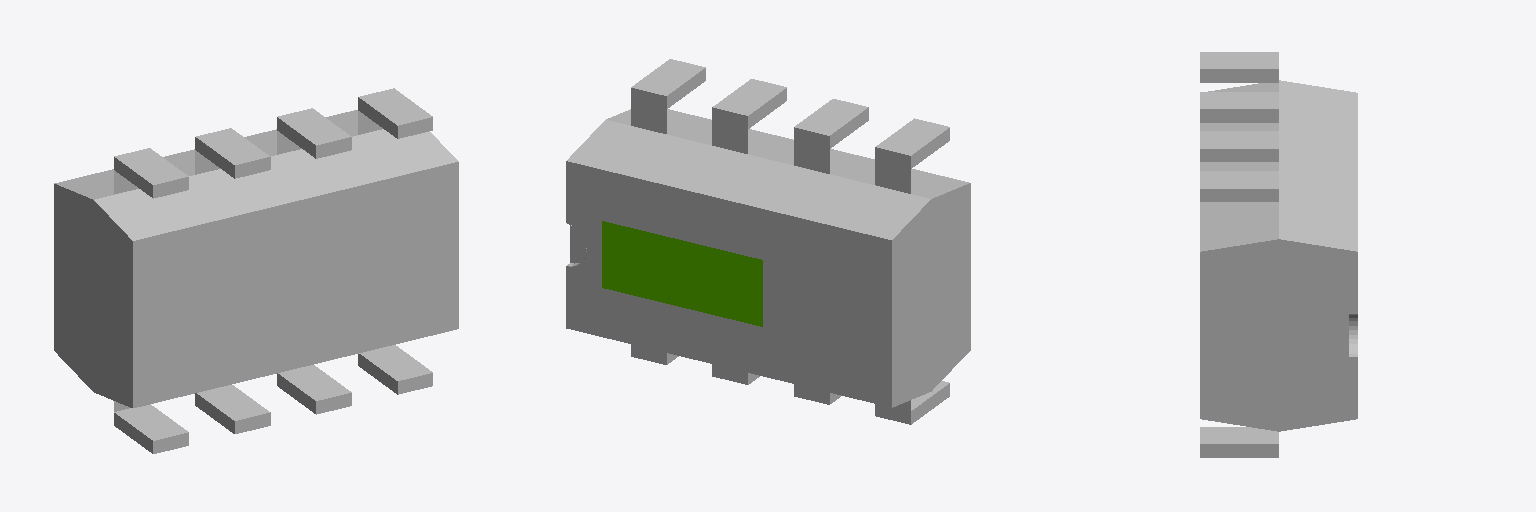
The model's file is DIL-8.obj.
3 views of the same model, side by side, from view 1: azimuth 30°, elevation 25°; view 2: azimuth 150°, elevation 25°; view 3: azimuth 270°, elevation 25° (orthographic).
Visible parts, largest first — view 1: ShapeIndexedFaceSet.019_ShapeIndexedFaceSet, ShapeIndexedFaceSet.010_ShapeIndexedFaceSet.011, ShapeIndexedFaceSet.012_ShapeIndexedFaceSet.013, ShapeIndexedFaceSet.015_ShapeIndexedFaceSet.016, ShapeIndexedFaceSet.008_ShapeIndexedFaceSet.009, ShapeIndexedFaceSet.007_ShapeIndexedFaceSet.008, ShapeIndexedFaceSet.005_ShapeIndexedFaceSet.006, ShapeIndexedFaceSet.003_ShapeIndexedFaceSet.004, ShapeIndexedFaceSet_ShapeIndexedFaceSet.001; view 2: ShapeIndexedFaceSet.019_ShapeIndexedFaceSet, ShapeIndexedFaceSet.016_ShapeIndexedFaceSet.017, ShapeIndexedFaceSet.012_ShapeIndexedFaceSet.013, ShapeIndexedFaceSet.008_ShapeIndexedFaceSet.009, ShapeIndexedFaceSet.015_ShapeIndexedFaceSet.016, ShapeIndexedFaceSet.010_ShapeIndexedFaceSet.011, ShapeIndexedFaceSet.007_ShapeIndexedFaceSet.008, ShapeIndexedFaceSet.013_ShapeIndexedFaceSet.014, ShapeIndexedFaceSet.011_ShapeIndexedFaceSet.012, ShapeIndexedFaceSet.014_ShapeIndexedFaceSet.015, ShapeIndexedFaceSet.009_ShapeIndexedFaceSet.010, ShapeIndexedFaceSet.003_ShapeIndexedFaceSet.004; view 3: ShapeIndexedFaceSet.019_ShapeIndexedFaceSet, ShapeIndexedFaceSet.015_ShapeIndexedFaceSet.016, ShapeIndexedFaceSet.012_ShapeIndexedFaceSet.013, ShapeIndexedFaceSet.010_ShapeIndexedFaceSet.011, ShapeIndexedFaceSet.008_ShapeIndexedFaceSet.009, ShapeIndexedFaceSet_ShapeIndexedFaceSet.001.
Part boxes in pixels (x1,y1,x2,y2): ShapeIndexedFaceSet.019_ShapeIndexedFaceSet: (54, 110, 458, 407); ShapeIndexedFaceSet.010_ShapeIndexedFaceSet.011: (195, 128, 270, 178); ShapeIndexedFaceSet.012_ShapeIndexedFaceSet.013: (277, 108, 351, 158); ShapeIndexedFaceSet.015_ShapeIndexedFaceSet.016: (358, 88, 432, 138); ShapeIndexedFaceSet.008_ShapeIndexedFaceSet.009: (114, 148, 188, 198); ShapeIndexedFaceSet.007_ShapeIndexedFaceSet.008: (114, 404, 188, 453); ShapeIndexedFaceSet.005_ShapeIndexedFaceSet.006: (195, 385, 270, 433); ShapeIndexedFaceSet.003_ShapeIndexedFaceSet.004: (277, 365, 351, 414); ShapeIndexedFaceSet_ShapeIndexedFaceSet.001: (358, 345, 432, 394); ShapeIndexedFaceSet.019_ShapeIndexedFaceSet: (566, 109, 970, 407); ShapeIndexedFaceSet.016_ShapeIndexedFaceSet.017: (602, 221, 762, 326); ShapeIndexedFaceSet.012_ShapeIndexedFaceSet.013: (712, 79, 786, 128); ShapeIndexedFaceSet.008_ShapeIndexedFaceSet.009: (875, 118, 949, 168); ShapeIndexedFaceSet.015_ShapeIndexedFaceSet.016: (631, 59, 705, 109); ShapeIndexedFaceSet.010_ShapeIndexedFaceSet.011: (794, 99, 868, 148); ShapeIndexedFaceSet.007_ShapeIndexedFaceSet.008: (875, 381, 949, 424); ShapeIndexedFaceSet.013_ShapeIndexedFaceSet.014: (712, 121, 747, 153); ShapeIndexedFaceSet.011_ShapeIndexedFaceSet.012: (794, 141, 829, 173); ShapeIndexedFaceSet.014_ShapeIndexedFaceSet.015: (631, 101, 666, 133); ShapeIndexedFaceSet.009_ShapeIndexedFaceSet.010: (875, 161, 910, 193); ShapeIndexedFaceSet.003_ShapeIndexedFaceSet.004: (712, 364, 759, 384); ShapeIndexedFaceSet.019_ShapeIndexedFaceSet: (1200, 80, 1357, 431); ShapeIndexedFaceSet.015_ShapeIndexedFaceSet.016: (1200, 171, 1278, 201); ShapeIndexedFaceSet.012_ShapeIndexedFaceSet.013: (1200, 131, 1278, 161); ShapeIndexedFaceSet.010_ShapeIndexedFaceSet.011: (1200, 92, 1278, 122); ShapeIndexedFaceSet.008_ShapeIndexedFaceSet.009: (1200, 52, 1278, 82); ShapeIndexedFaceSet_ShapeIndexedFaceSet.001: (1200, 427, 1278, 457).
Bounding box in the file's own units: 10.16 × 8.02 × 4.3.